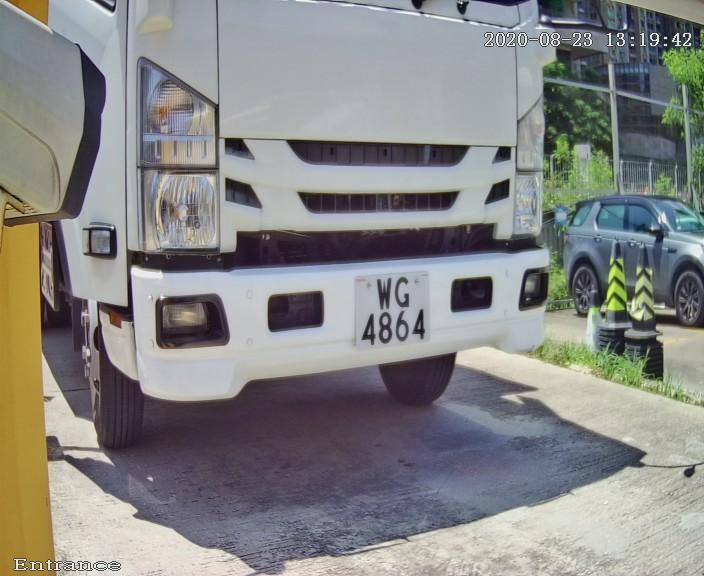License Plate: (315, 260, 450, 371)
